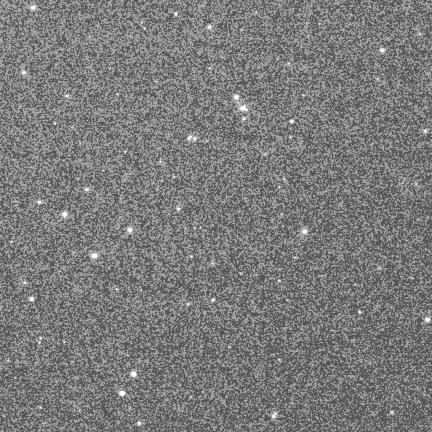blob: (131, 372, 137, 378), (380, 48, 386, 53), (29, 297, 35, 302), (119, 391, 125, 396), (127, 227, 132, 233), (425, 317, 430, 322), (62, 212, 67, 217), (92, 254, 97, 259), (31, 5, 36, 10), (290, 119, 294, 124), (234, 95, 239, 99), (190, 255, 194, 259), (303, 230, 307, 234), (424, 130, 428, 134), (24, 281, 27, 285), (22, 71, 26, 74), (212, 298, 215, 302), (177, 207, 180, 211), (208, 25, 211, 29), (38, 200, 41, 204), (85, 188, 89, 191), (174, 13, 178, 16), (40, 337, 43, 341), (54, 122, 57, 125), (243, 118, 246, 121), (391, 411, 394, 414), (194, 138, 197, 141), (138, 422, 141, 425), (187, 303, 190, 306), (358, 311, 361, 314), (65, 95, 69, 97)
